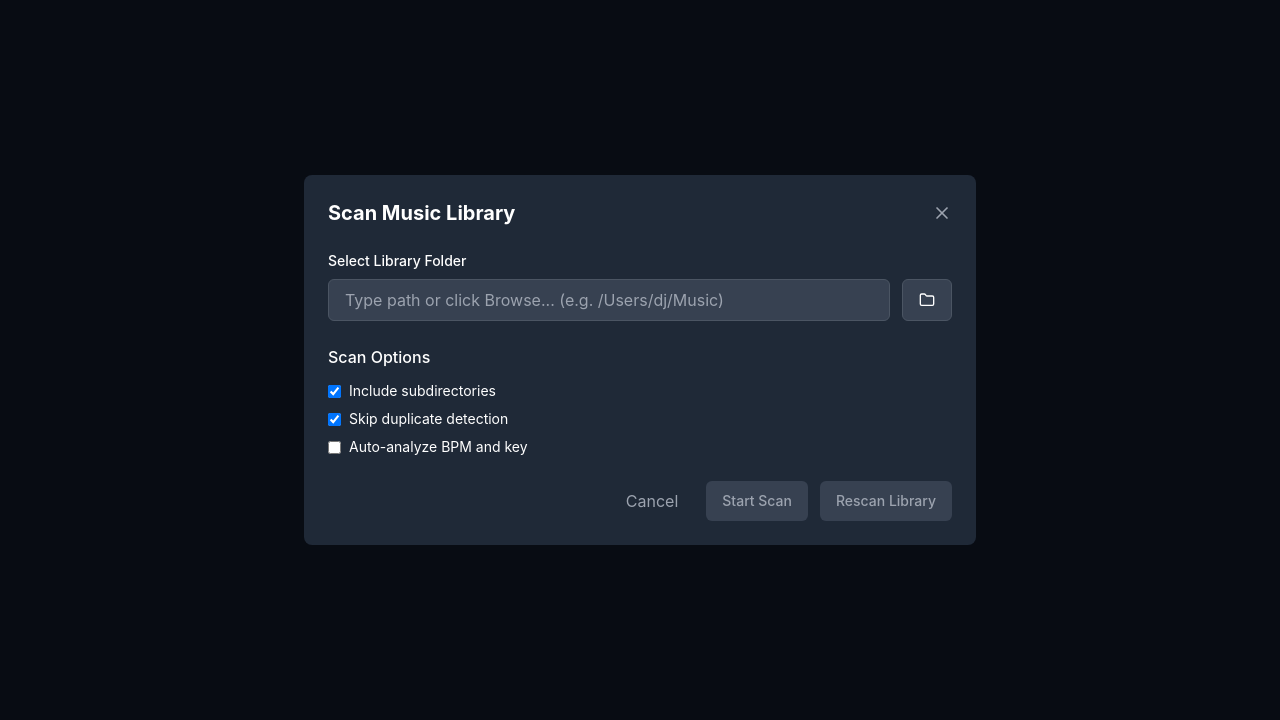
ScanDialog Component › Scanning Process › handles scan API errors
Type "/Users/test/Music" into the field with placeholder "Type path or click Browse... (e.g. /Users/dj/Music)" at (609, 300), box [328,279,890,321]
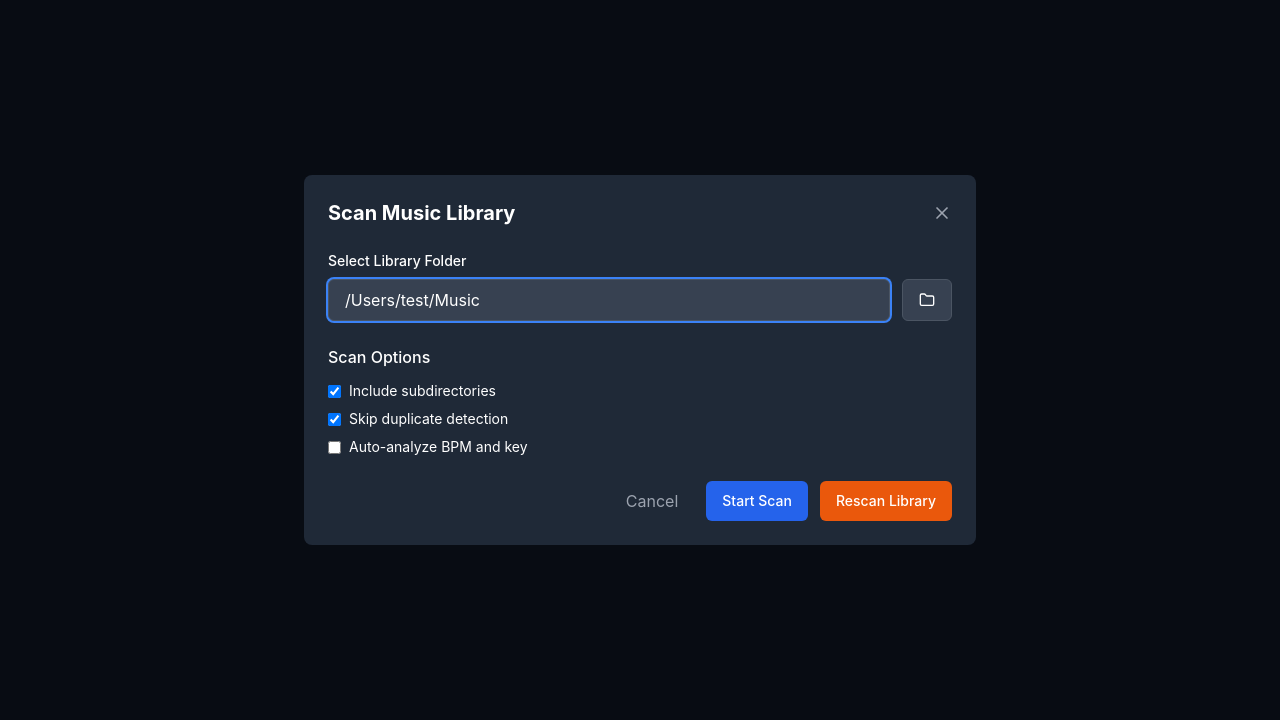
Click the button "Start Scan" at (757, 501), box [706,481,808,521]
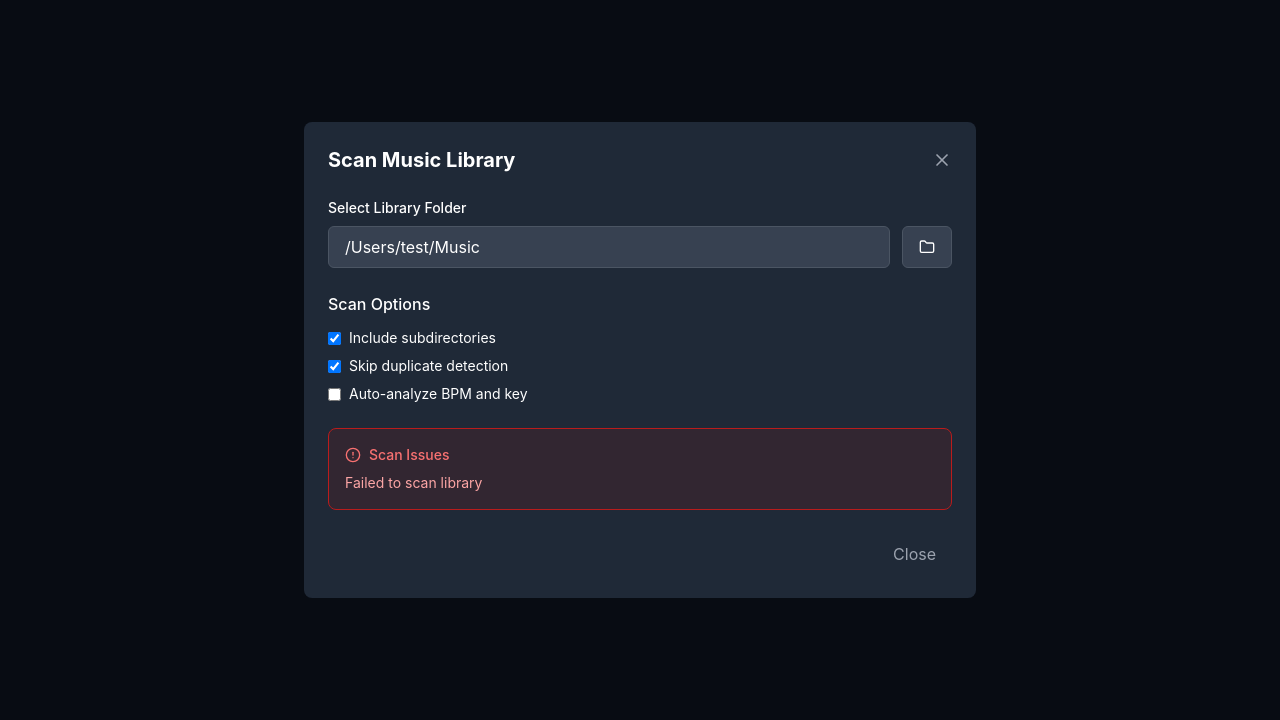
Check: the text "Failed to scan library" is shown, box [345,474,482,491]
